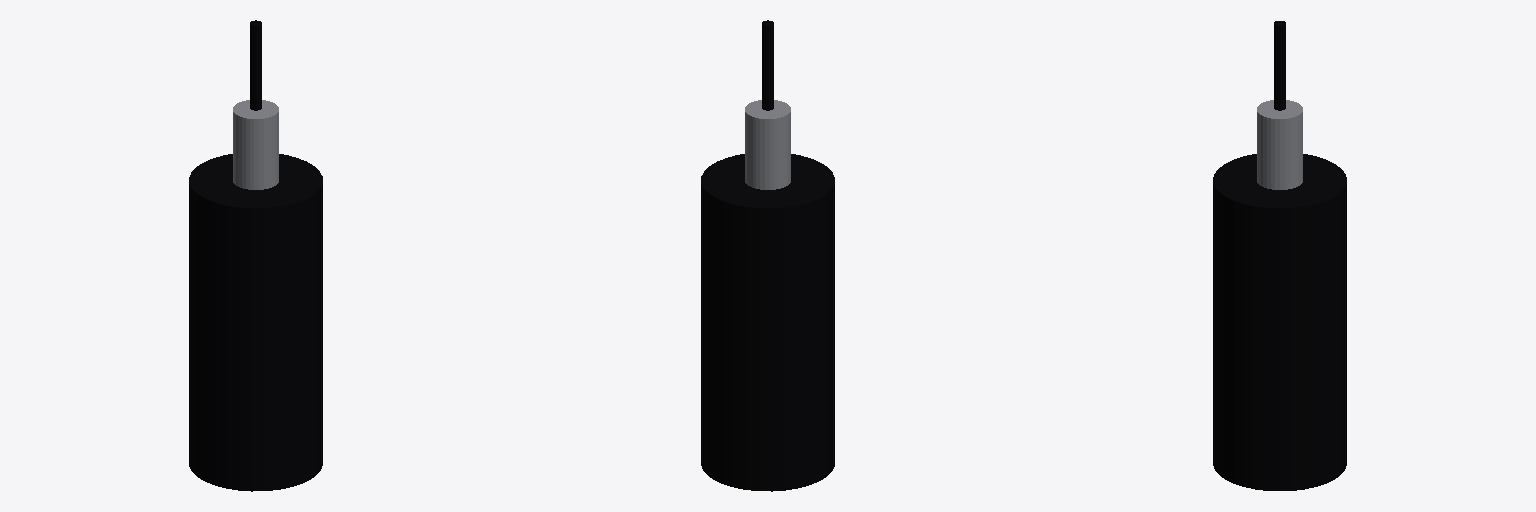
robot.urdf — screwdriver:
<?xml version="1.0"?>
<!--
  SD5-340 screwdriver envelope: the motor body, the nose and the bit on the
  tool's own stroke (CC0-1.0, botrail-assets). Generated by
  tools/generate_urdf.py from bt.tools.screwdriver_urdf — edit the figures
  there, not here.

  Frames (botrail catalog convention, Z-up, metres):
    mount   root = the face that bolts to the hand (ISO 9409-1-50-4-M6), +Z into the tool
    body    the motor housing, a cylinder along the axis
    nose    the front housing the bit runs out of
    bit     the bit, on the prismatic joint `shank` (0 to 55 mm along the axis)
    tip     the bit's free end, turned half a turn about X: +Z back along the tool
-->
<robot name="screwdriver">
  <link name="mount"></link>
  <link name="body"><visual><origin xyz="0 0 0.100000000"/><geometry><cylinder radius="0.043000000" length="0.200000000"/></geometry><material name="body_m"><color rgba="0.0600 0.0600 0.0700 1"/></material></visual><collision><origin xyz="0 0 0.100000000"/><geometry><cylinder radius="0.043000000" length="0.200000000"/></geometry></collision></link>
  <link name="nose"><visual><origin xyz="0 0 0.025000000"/><geometry><cylinder radius="0.015000000" length="0.050000000"/></geometry><material name="nose_m"><color rgba="0.5500 0.5600 0.5800 1"/></material></visual><collision><origin xyz="0 0 0.025000000"/><geometry><cylinder radius="0.015000000" length="0.050000000"/></geometry></collision></link>
  <link name="bit"><visual><origin xyz="0 0 0.031000000"/><geometry><cylinder radius="0.004000000" length="0.060000000"/></geometry><material name="bit_m"><color rgba="0.0600 0.0600 0.0700 1"/></material></visual><collision><origin xyz="0 0 0.031000000"/><geometry><cylinder radius="0.004000000" length="0.060000000"/></geometry></collision></link>
  <link name="tip"></link>
  <joint name="body_joint" type="fixed"><parent link="mount"/><child link="body"/><origin xyz="0 0 0" rpy="0 0 0"/></joint>
  <joint name="nose_joint" type="fixed"><parent link="body"/><child link="nose"/><origin xyz="0.000000000 0.000000000 0.200000000" rpy="0 0 0"/></joint>
  <joint name="shank" type="prismatic"><parent link="nose"/><child link="bit"/><origin xyz="0.000000000 0.000000000 0.050000000"/><axis xyz="0 0 1"/><limit lower="0" upper="0.055000000" effort="50" velocity="0.2"/></joint>
  <joint name="tip_joint" type="fixed"><parent link="bit"/><child link="tip"/><origin xyz="0.000000000 0.000000000 0.061000000" rpy="3.141592653590 0 0"/></joint>
</robot>

--- Facts derived from the render (not from the file) ---
Views: 3 orthographic renders of the robot side by side, from view 1: azimuth 30°, elevation 25°; view 2: azimuth 150°, elevation 25°; view 3: azimuth 270°, elevation 25°.
Model screwdriver with 5 links and 4 joints (1 prismatic, 3 fixed), rooted at mount, posed every joint at zero.
Visible links, largest first — view 1: body, nose, bit; view 2: body, nose, bit; view 3: body, nose, bit.
Boxes of the visible links, x1=… form: body: x1=189, y1=154, x2=322, y2=491; nose: x1=233, y1=100, x2=278, y2=189; bit: x1=250, y1=20, x2=261, y2=110; body: x1=701, y1=154, x2=834, y2=491; nose: x1=745, y1=100, x2=790, y2=189; bit: x1=762, y1=20, x2=773, y2=110; body: x1=1213, y1=154, x2=1346, y2=490; nose: x1=1257, y1=100, x2=1302, y2=189; bit: x1=1274, y1=21, x2=1285, y2=110.
Size in the robot's own frame: 0.086 by 0.086 by 0.311 metres.
Geometry: primitives only (box / cylinder / sphere), no mesh files.
